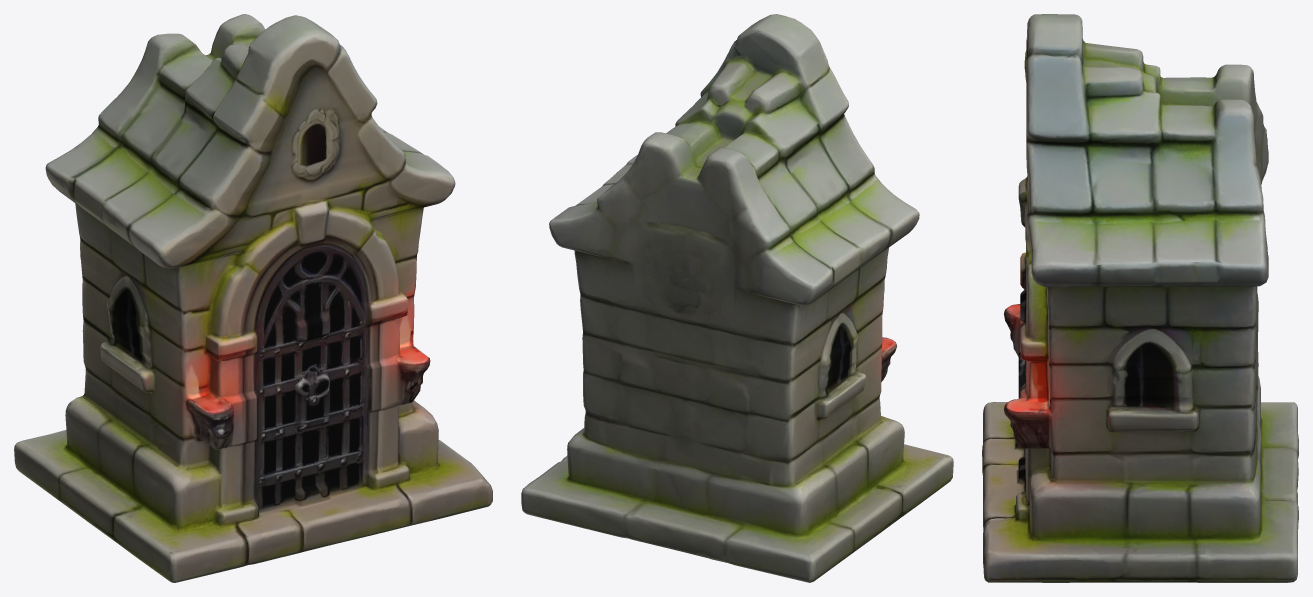
The model's file is broken_crypt.glb.
3 renders of one model, left to right at view 1: azimuth 30°, elevation 25°; view 2: azimuth 150°, elevation 25°; view 3: azimuth 270°, elevation 25°, orthographic. The views are drawn at different scales.
Bounding box in the file's own units: 0.6829 × 1 × 0.584.
Materials: 1 (1 with a texture image).
